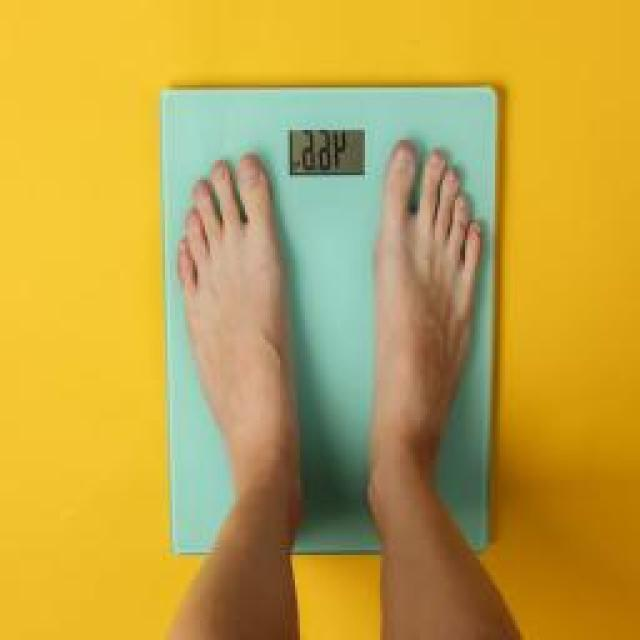No_Shoes: (342, 110, 493, 480), (171, 143, 302, 497)
